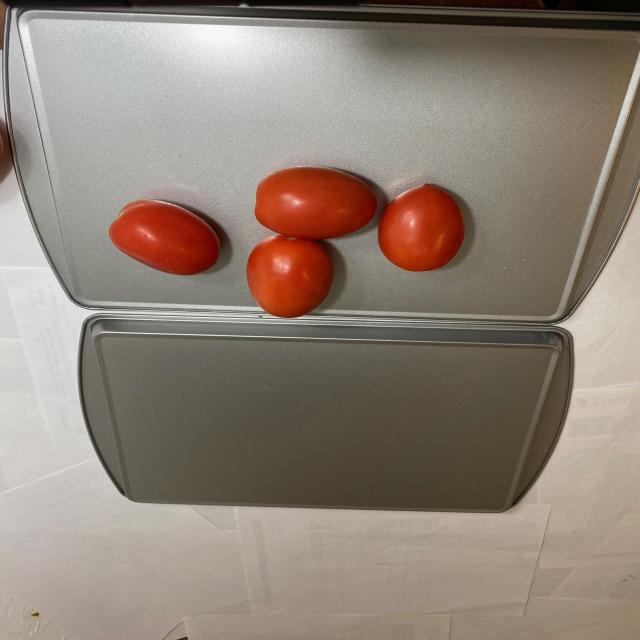tomato: (106, 166, 471, 316)
